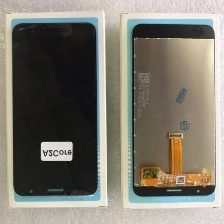phone: (8, 19, 102, 199), (127, 21, 218, 200)
